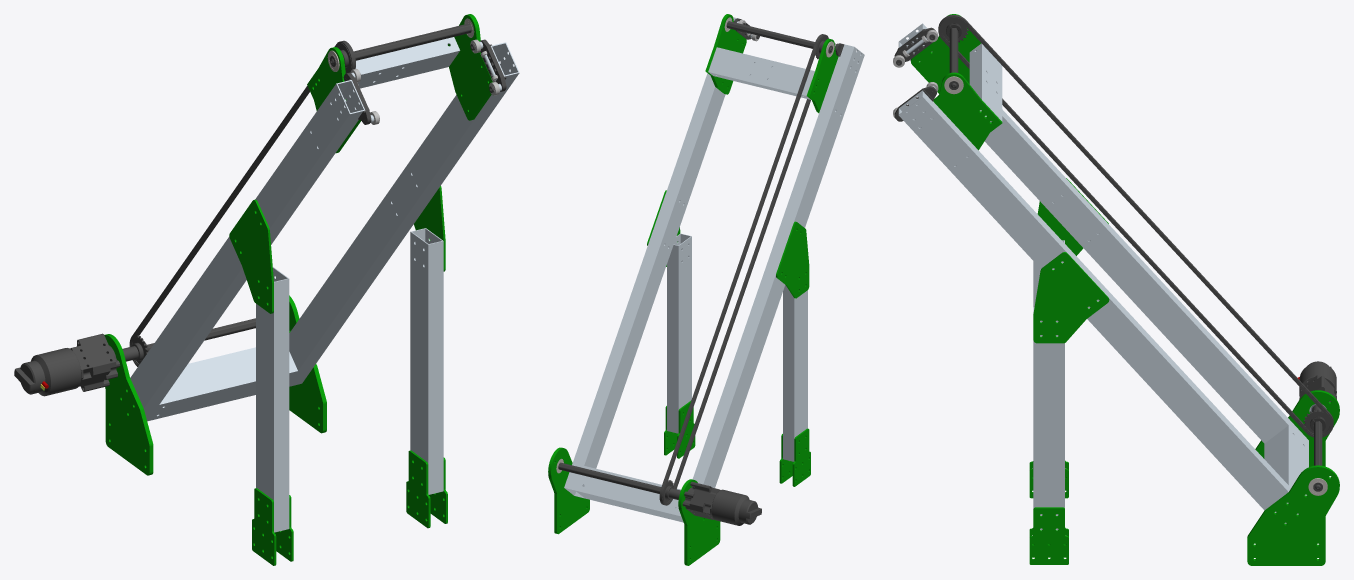
3 views of the same model, side by side, from view 1: azimuth 30°, elevation 25°; view 2: azimuth 150°, elevation 25°; view 3: azimuth 270°, elevation 25° (orthographic). The views are drawn at different scales.
Visible parts, largest first — view 1: Tube 2"x1"x38" (×2), Tube 2"x1"x15.5" (×2), Bottom Gusset (×2), Tube 2"x2"x9", Brace Top Gusset (×2), Top Chain Gusset (×2), Brace Bottom Gusset (×2), Tube 2"x1"x8.5", Simplified Falcon500 V1/V2, Chain Sweep, ~308 links, 1/2" Shaft; view 2: Tube 2"x1"x38" (×2), Tube 2"x1"x15.5" (×2), Chain Sweep, ~308 links, Bottom Gusset (×2), Tube 2"x1"x8.5", Tube 2"x2"x9", Top Chain Gusset (×2), Brace Top Gusset, 1/2" Shaft (×2), Brace Bottom Gusset (×2), Simplified Falcon500 V1/V2; view 3: Tube 2"x1"x38" (×2), Bottom Gusset (×2), Chain Sweep, ~308 links, Tube 2"x1"x15.5", Brace Top Gusset (×2), Top Chain Gusset (×2), Brace Bottom Gusset, Tube 2"x1"x8.5", Tube 2"x2"x9", Simplified Falcon500 V1/V2.
Boxes of the visible parts, x1,y1,x2,y2 form: Tube 2"x1"x38" (×2): (130,42,519,421); Tube 2"x1"x15.5" (×2): (256,228,443,532); Bottom Gusset (×2): (104,295,326,475); Tube 2"x2"x9": (148,347,297,420); Brace Top Gusset (×2): (229,186,445,313); Top Chain Gusset (×2): (307,14,492,153); Brace Bottom Gusset (×2): (252,450,430,565); Tube 2"x1"x8.5": (355,37,460,88); Simplified Falcon500 V1/V2: (14,348,81,396); Chain Sweep, ~308 links: (129,40,355,366); 1/2" Shaft: (330,23,471,66); Tube 2"x1"x38" (×2): (564,17,864,517); Tube 2"x1"x15.5" (×2): (667,233,807,461); Chain Sweep, ~308 links: (659,34,828,505); Bottom Gusset (×2): (548,447,720,565); Tube 2"x1"x8.5": (708,47,814,99); Tube 2"x2"x9": (575,466,683,522); Top Chain Gusset (×2): (705,14,838,113); Brace Top Gusset: (776,221,809,298); 1/2" Shaft (×2): (558,21,832,493); Brace Bottom Gusset (×2): (677,400,810,486); Simplified Falcon500 V1/V2: (711,489,761,525); Tube 2"x1"x38" (×2): (898,23,1308,523); Bottom Gusset (×2): (1247,390,1339,565); Chain Sweep, ~308 links: (938,14,1333,437); Tube 2"x1"x15.5": (1033,307,1064,530); Brace Top Gusset (×2): (1033,178,1109,343); Top Chain Gusset (×2): (911,14,1002,150); Brace Bottom Gusset: (1029,507,1068,564); Tube 2"x1"x8.5": (969,43,1002,122); Tube 2"x2"x9": (1264,425,1308,495); Simplified Falcon500 V1/V2: (1297,361,1336,392).
Bounding box in the file's own units: 0.4408 × 0.8626 × 0.7175.
